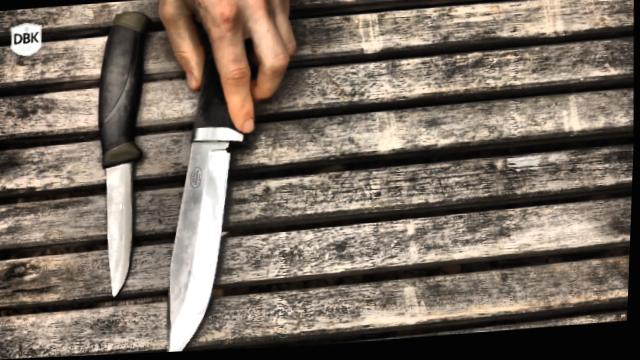knife: (150, 27, 311, 354), (83, 123, 155, 310)
